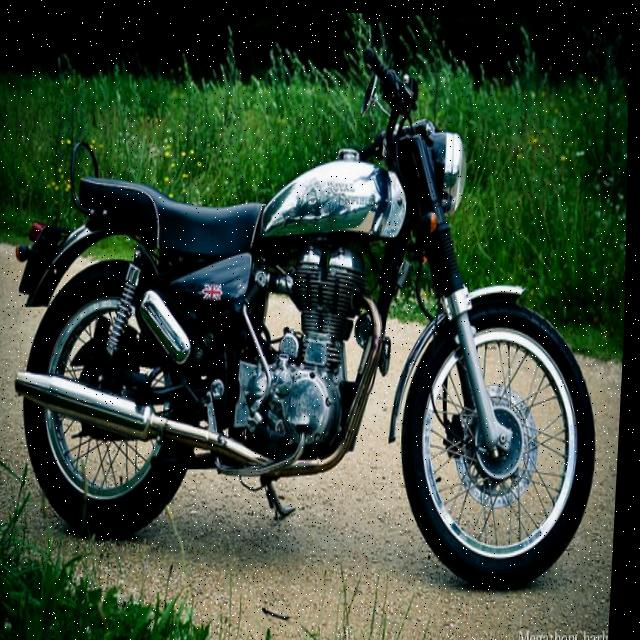motorcycle: (0, 17, 626, 609)
